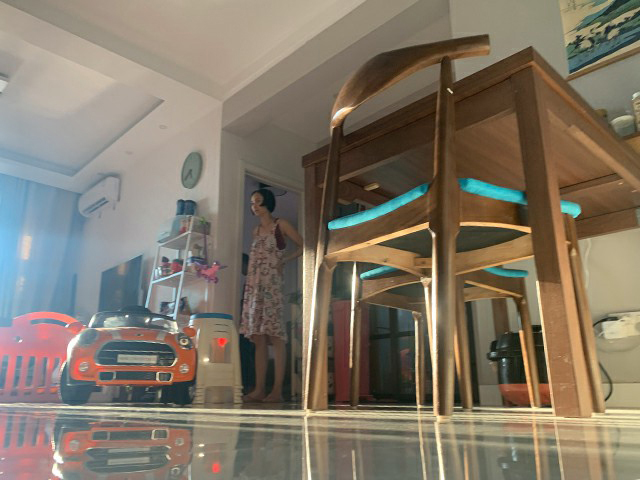stool: (303, 32, 607, 419), (344, 259, 539, 413), (189, 312, 244, 405)
table: (300, 46, 640, 418)
wire: (592, 316, 620, 403)
